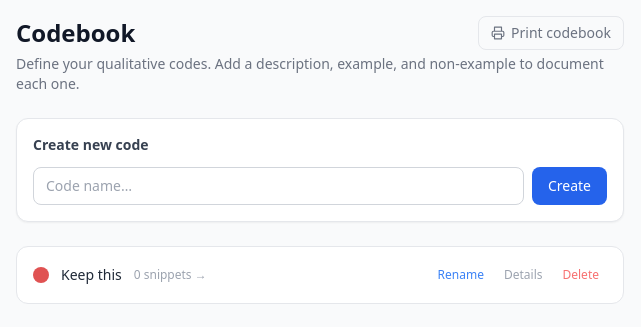
TagManagerView › discards a rename when Escape is pressed
The width and height of the screenshot is (641, 327).
Click the button "Rename" at x=461, y=275, box [430,263,492,287]
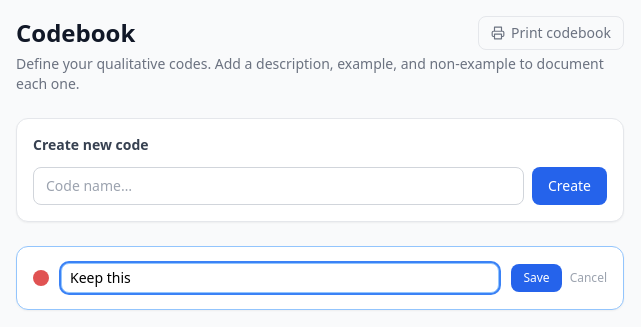
Press Escape
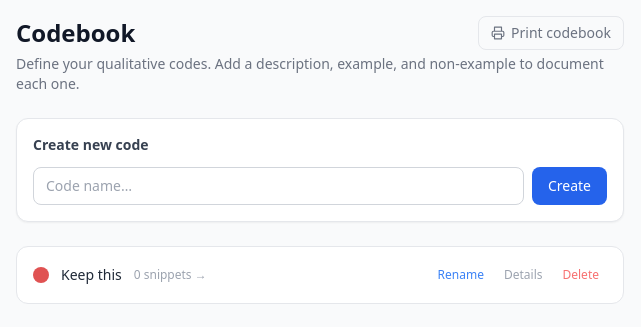
Expected: the text "Keep this" is shown, [61,265,122,285]
